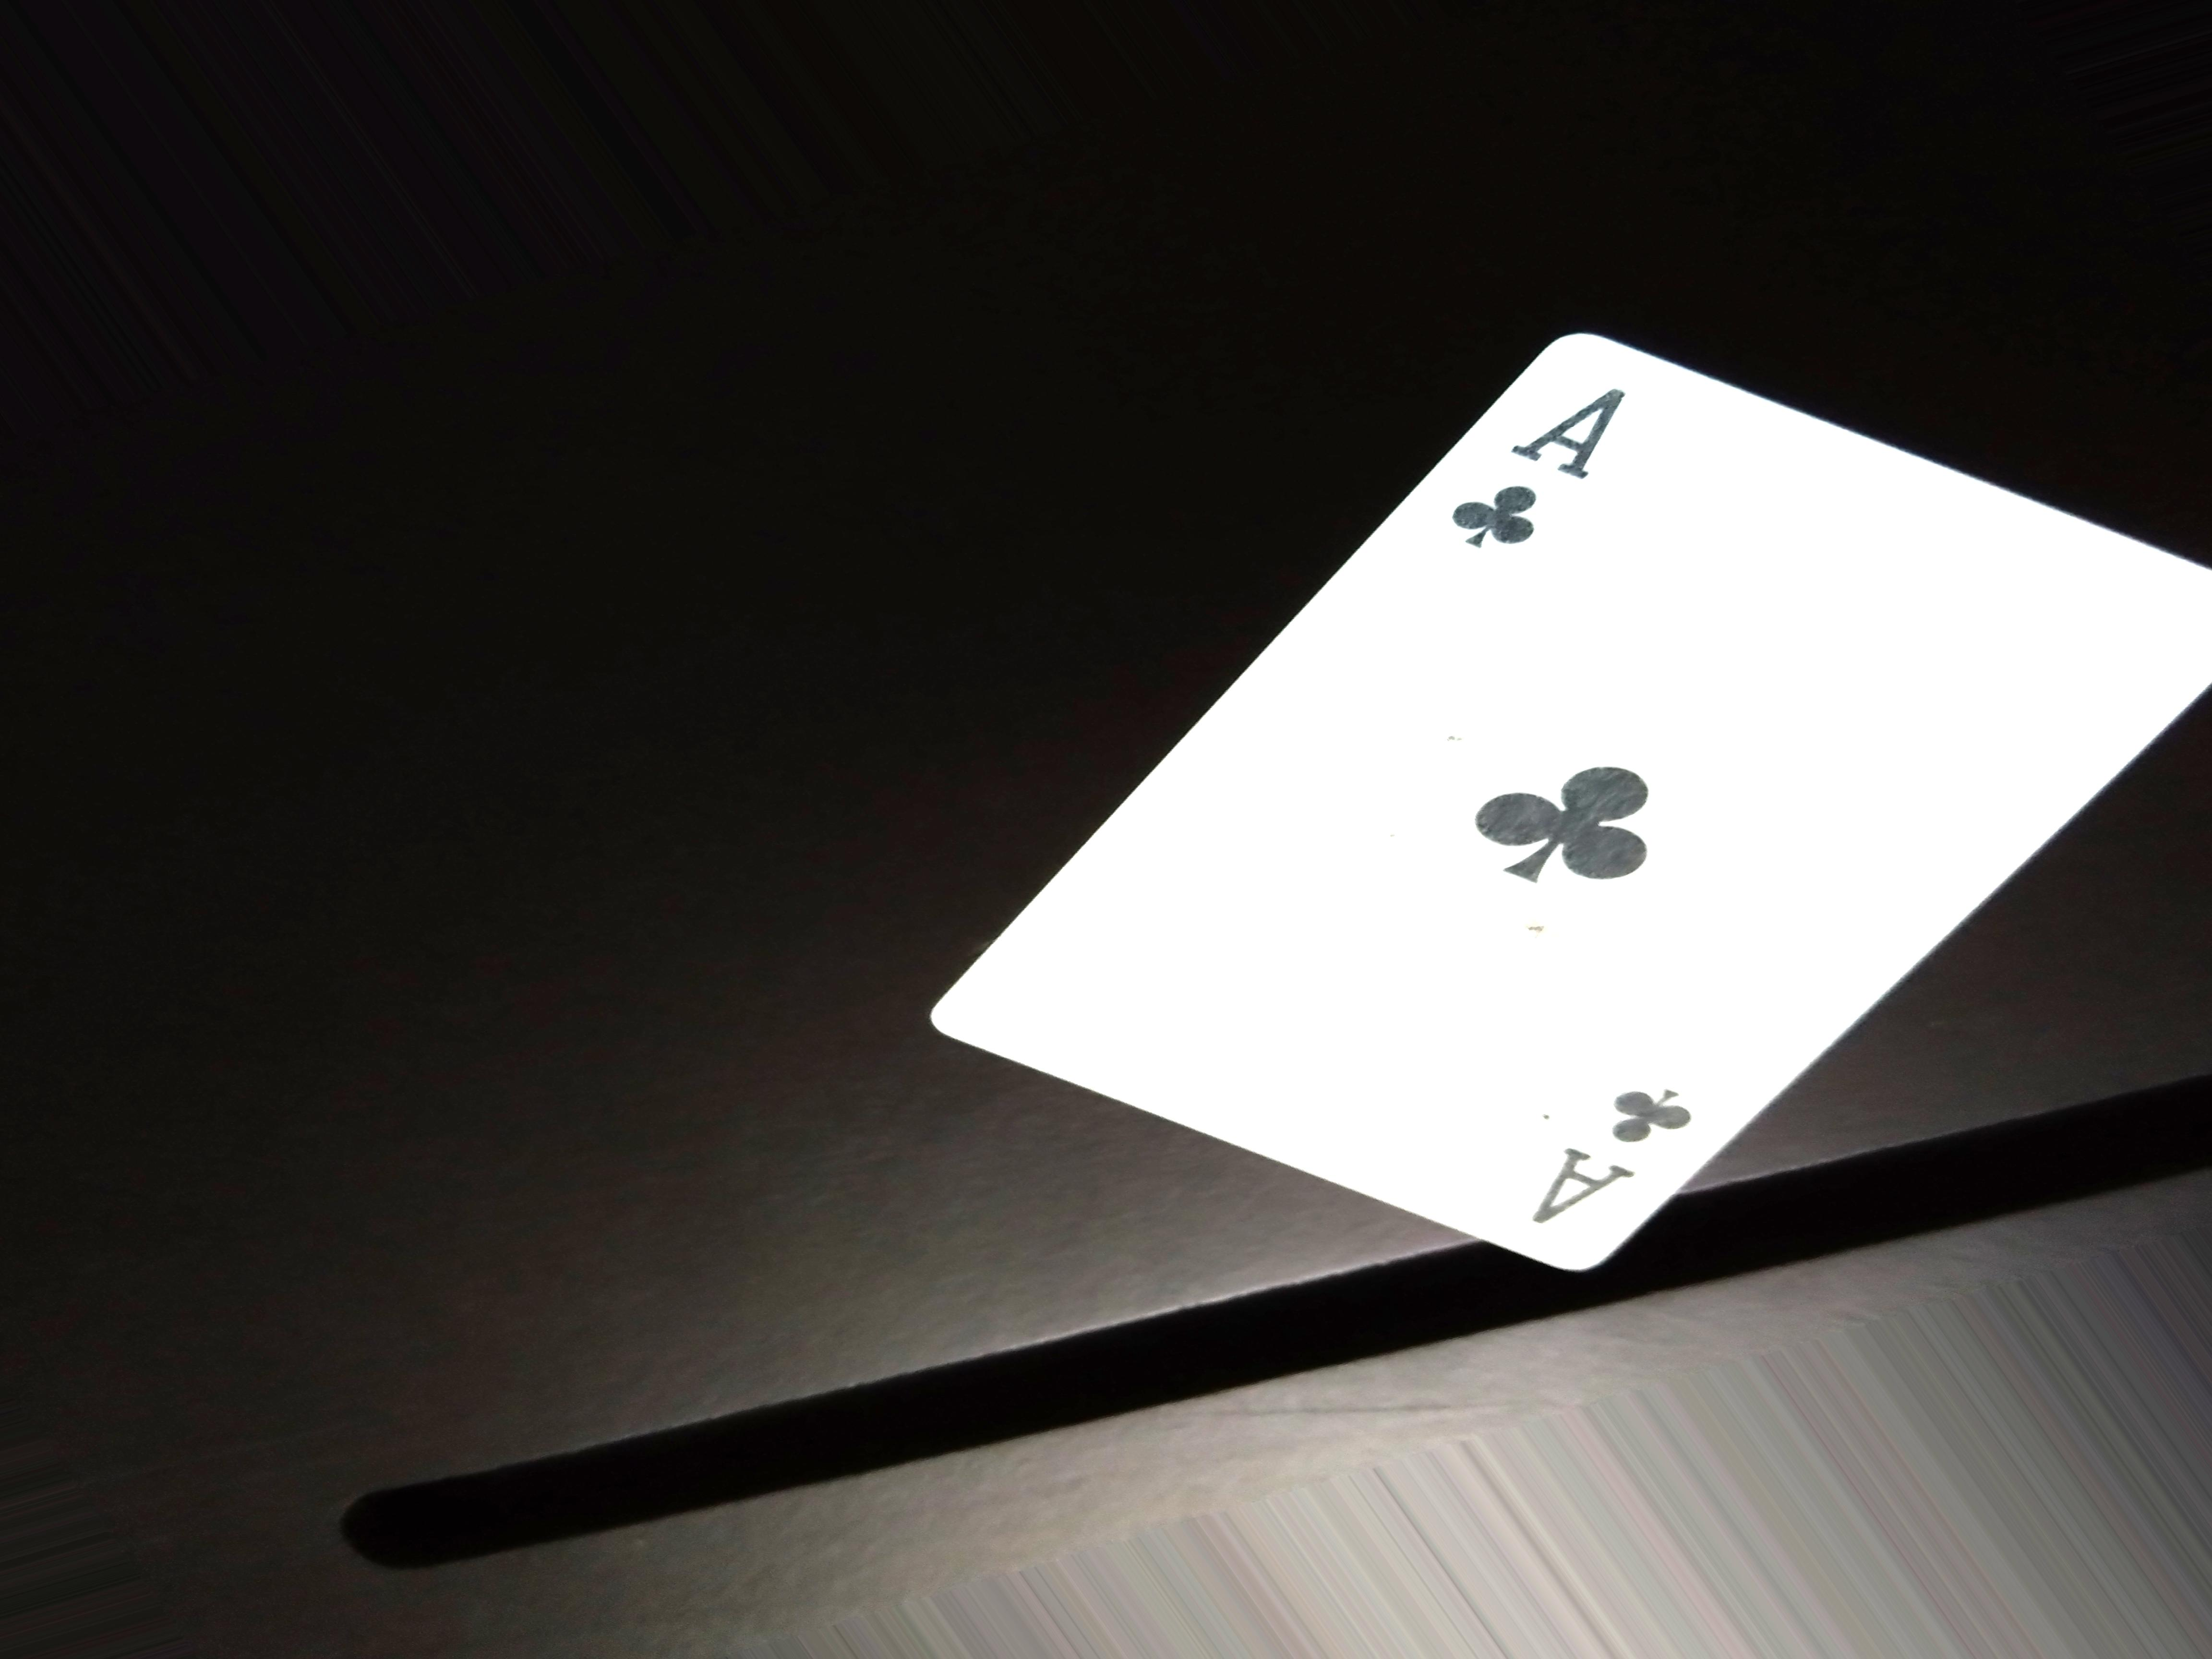AC: (1465, 373, 1639, 580)
